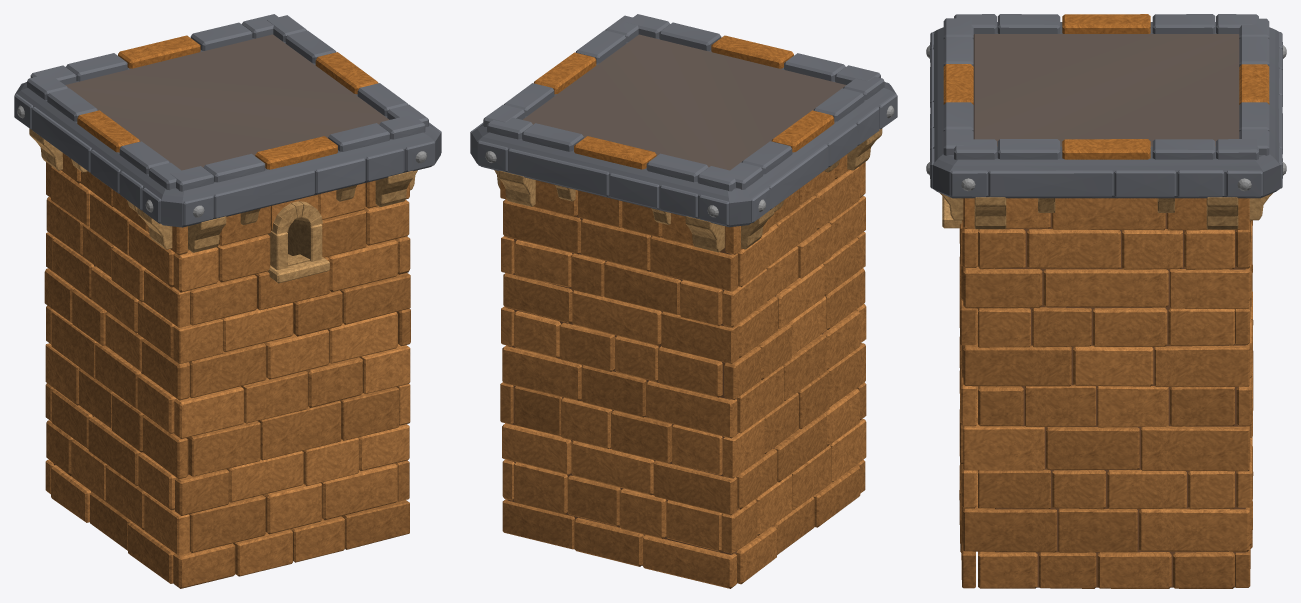
The model's file is wsc-module-005-east-gate-tower.glb.
3 views of the same model, side by side, from view 1: azimuth 30°, elevation 25°; view 2: azimuth 150°, elevation 25°; view 3: azimuth 270°, elevation 25° (orthographic). The views are drawn at different scales.
Parts seen in each view (by area): view 1: 01 | ochre limestone ashlar, 04 | forged blued iron coping, 08 | plain closed head datum (provisional), 02 | carved honey limestone, 07 | restrained fired-clay coping keys; view 2: 01 | ochre limestone ashlar, 04 | forged blued iron coping, 08 | plain closed head datum (provisional), 07 | restrained fired-clay coping keys, 02 | carved honey limestone, 03 | recessed warm lime mortar; view 3: 01 | ochre limestone ashlar, 04 | forged blued iron coping, 08 | plain closed head datum (provisional), 07 | restrained fired-clay coping keys, 02 | carved honey limestone, 03 | recessed warm lime mortar, 05 | peened iron rivets.
Boxes of the visible parts, x1,y1,x2,y2 form: 01 | ochre limestone ashlar: (44,153,410,588); 04 | forged blued iron coping: (14,14,441,227); 08 | plain closed head datum (provisional): (65,34,389,170); 02 | carved honey limestone: (29,128,417,283); 07 | restrained fired-clay coping keys: (77,35,378,169); 01 | ochre limestone ashlar: (500,154,866,588); 04 | forged blued iron coping: (470,14,897,227); 08 | plain closed head datum (provisional): (523,34,846,170); 07 | restrained fired-clay coping keys: (534,35,834,169); 02 | carved honey limestone: (494,128,882,252); 03 | recessed warm lime mortar: (507,215,826,565); 01 | ochre limestone ashlar: (959,198,1253,588); 04 | forged blued iron coping: (930,14,1282,198); 08 | plain closed head datum (provisional): (973,34,1239,146); 07 | restrained fired-clay coping keys: (943,14,1269,159); 02 | carved honey limestone: (940,193,1272,229); 03 | recessed warm lime mortar: (995,213,1245,587); 05 | peened iron rivets: (926,45,1286,191).
Bounding box in the file's own units: 3.85 × 5.27 × 3.85.
8 materials, 3 textured.
